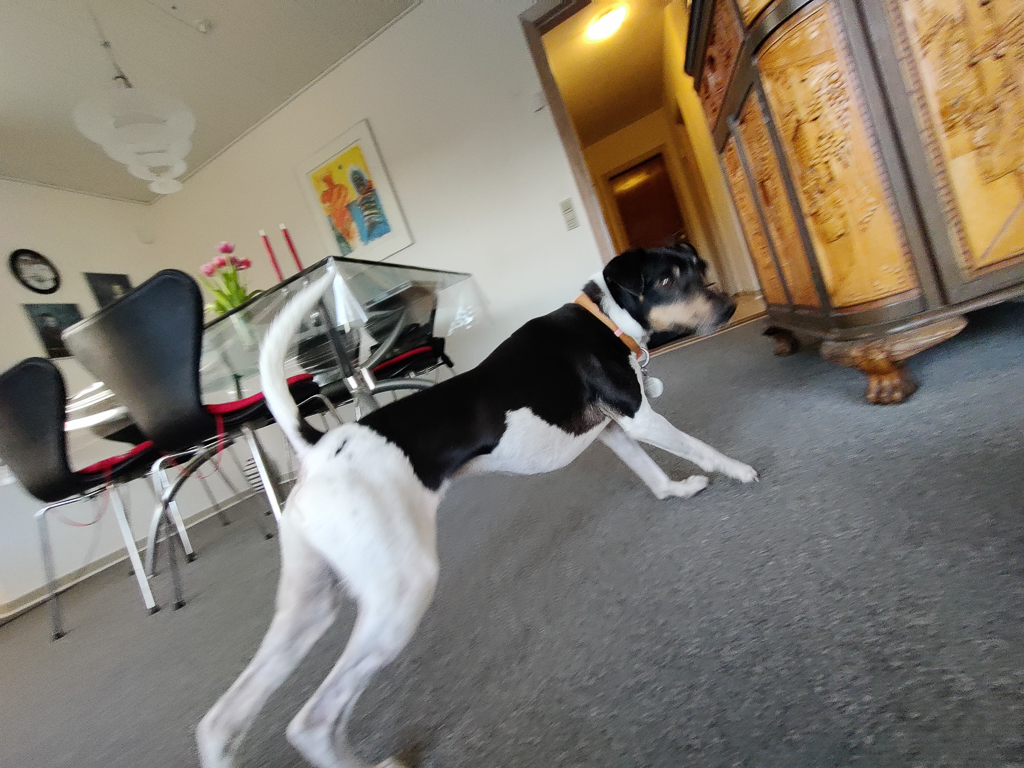Dog: (180, 230, 774, 767)
